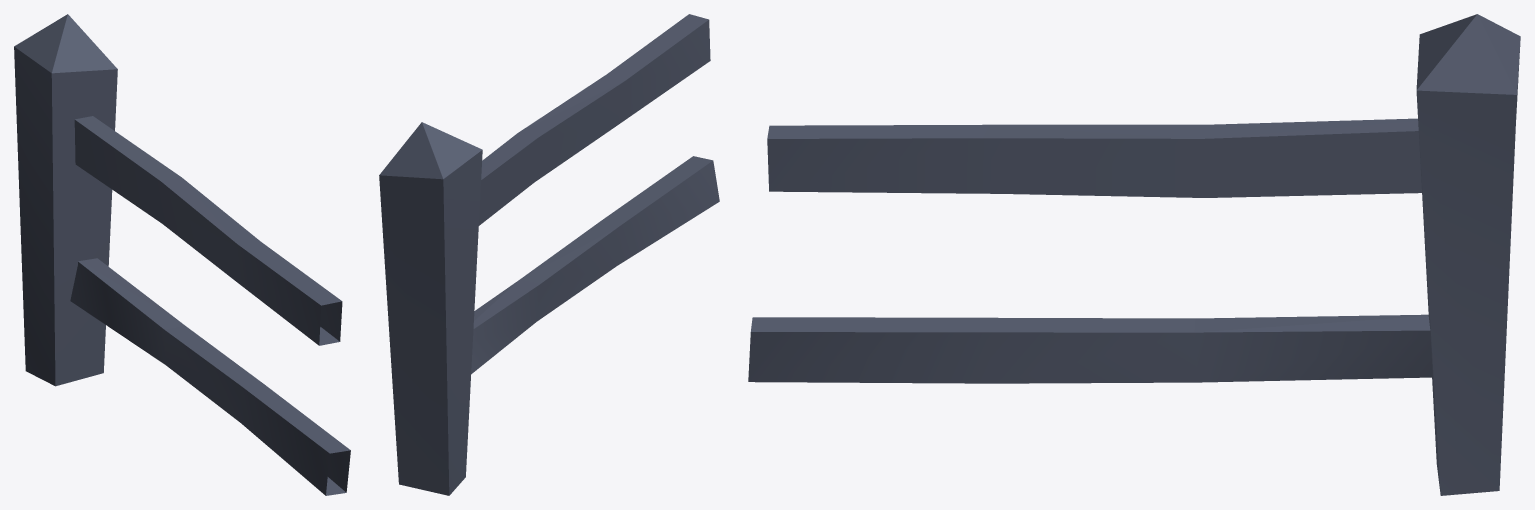
Rendered from FencePiece02.FBX.
3 views of the same model, side by side, from view 1: azimuth 30°, elevation 25°; view 2: azimuth 150°, elevation 25°; view 3: azimuth 270°, elevation 25° (orthographic). The views are drawn at different scales.
Parts seen in each view (by area): view 1: FencePiece02; view 2: FencePiece02; view 3: FencePiece02.
Part boxes in pixels (x1,y1,x2,y2): FencePiece02: (14, 14, 350, 495); FencePiece02: (379, 14, 719, 495); FencePiece02: (748, 14, 1520, 495).
Size of the model in its own units: 26.14 by 136 by 203.
